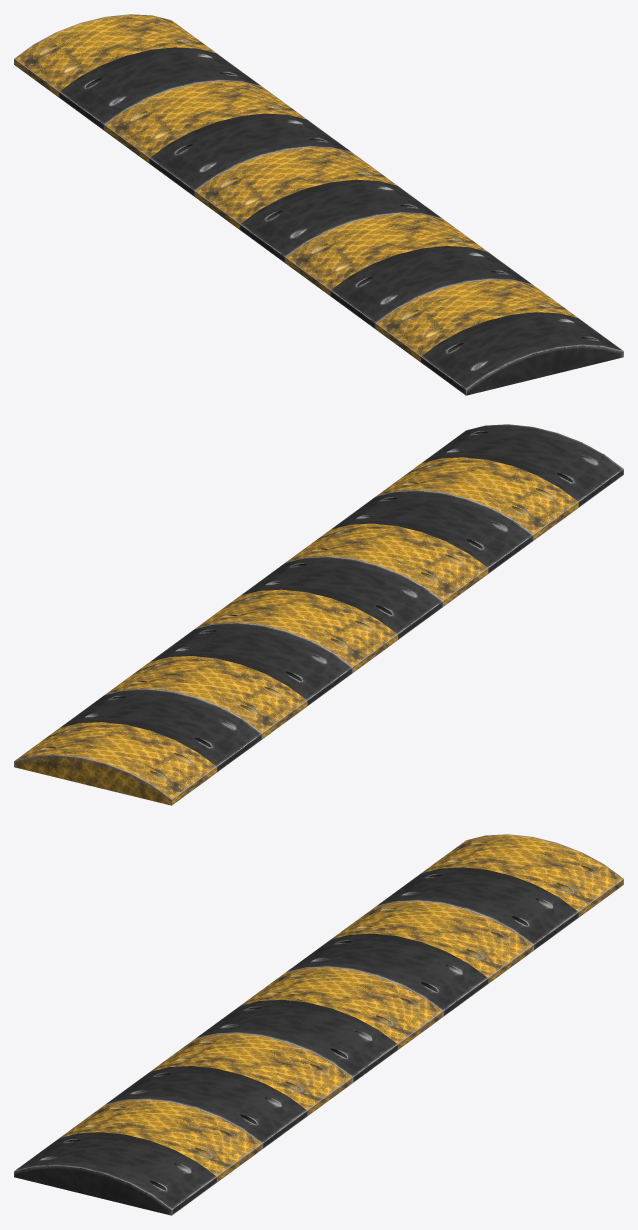
The model's file is speed_bump.glb.
3 views of the same model, one above another, from view 1: azimuth 30°, elevation 25°; view 2: azimuth 150°, elevation 25°; view 3: azimuth 330°, elevation 25° (orthographic).
Visible parts, largest first — view 1: Cube; view 2: Cube; view 3: Cube.
Part boxes in pixels (x1,y1,x2,y2): Cube: [14, 14, 623, 395]; Cube: [14, 424, 623, 805]; Cube: [14, 834, 623, 1215].
Size of the model in its own units: 2 by 0.3114 by 9.92.
Materials: 1 (1 with a texture image).
